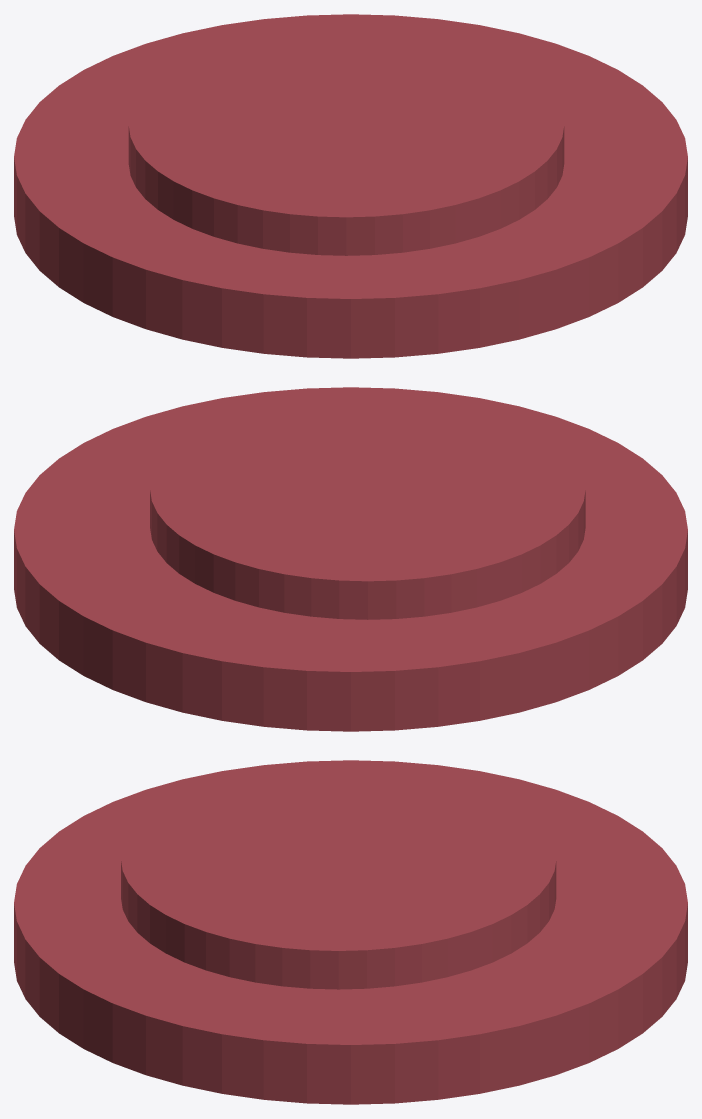
The model's file is pedestal.glb.
The picture shows the model from 3 angles, top to bottom: view 1: azimuth 30°, elevation 25°; view 2: azimuth 150°, elevation 25°; view 3: azimuth 270°, elevation 25°; orthographic projection.
Visible parts, largest first — view 1: Mesh_Mesh_head_geo.001_lambert2SG.001; view 2: Mesh_Mesh_head_geo.001_lambert2SG.001; view 3: Mesh_Mesh_head_geo.001_lambert2SG.001.
Boxes of the visible parts, left/top/right/bottom form: Mesh_Mesh_head_geo.001_lambert2SG.001: left=14, top=14, right=687, bottom=358; Mesh_Mesh_head_geo.001_lambert2SG.001: left=14, top=387, right=687, bottom=731; Mesh_Mesh_head_geo.001_lambert2SG.001: left=14, top=760, right=687, bottom=1104.
Bounding box in the file's own units: 0.041 × 0.00659 × 0.041.
